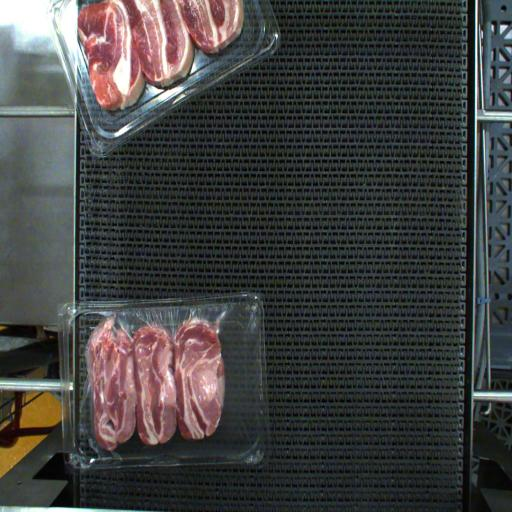unsealed: (80, 309, 242, 462)
